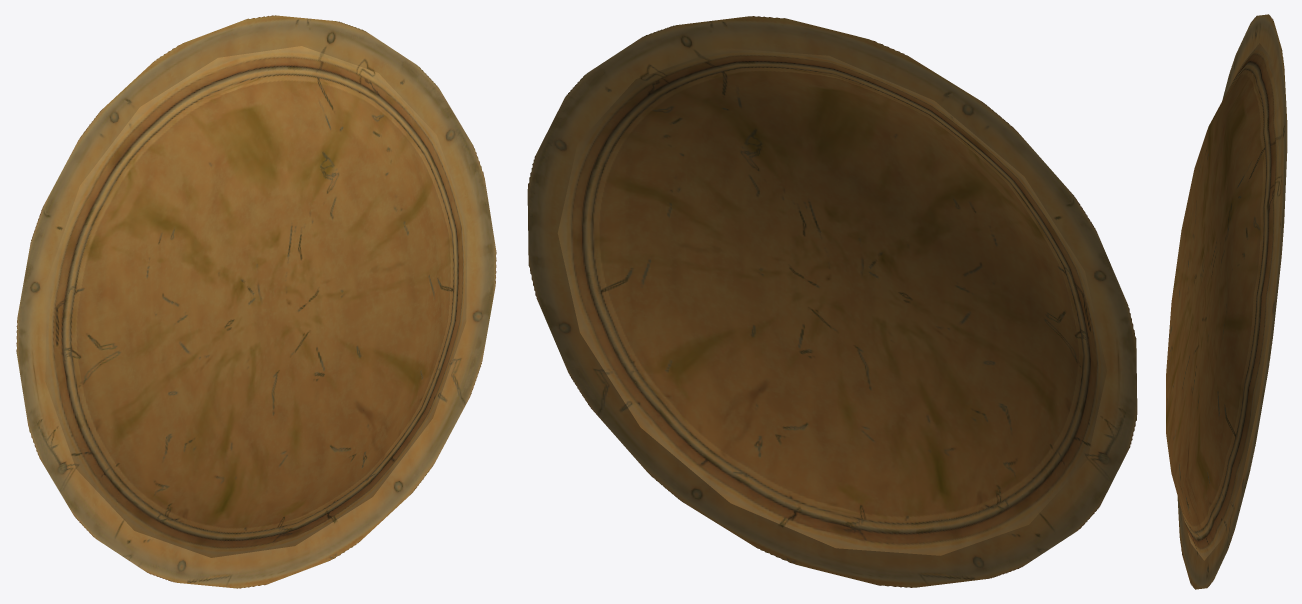
The model's file is pelte_01_back.dae.
3 views of the same model, side by side, from view 1: azimuth 30°, elevation 25°; view 2: azimuth 150°, elevation 25°; view 3: azimuth 270°, elevation 25° (orthographic). The views are drawn at different scales.
Visible parts, largest first — view 1: Aspis_Back_Sml; view 2: Aspis_Back_Sml; view 3: Aspis_Back_Sml.
Part boxes in pixels (bbox=[...]): Aspis_Back_Sml: bbox=[16, 15, 496, 588]; Aspis_Back_Sml: bbox=[527, 16, 1137, 587]; Aspis_Back_Sml: bbox=[1166, 14, 1287, 589].
Bounding box in the file's own units: 1.4 × 0.2934 × 1.39.
1 material, 1 textured.
